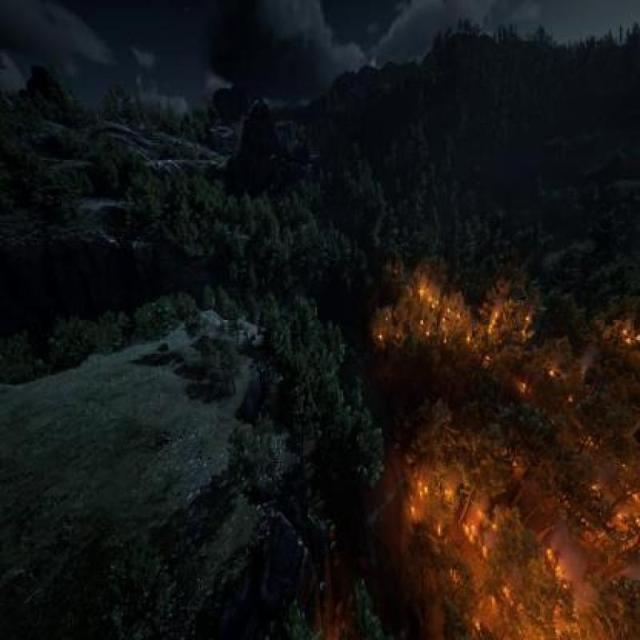Fire: (360, 267, 640, 640)
